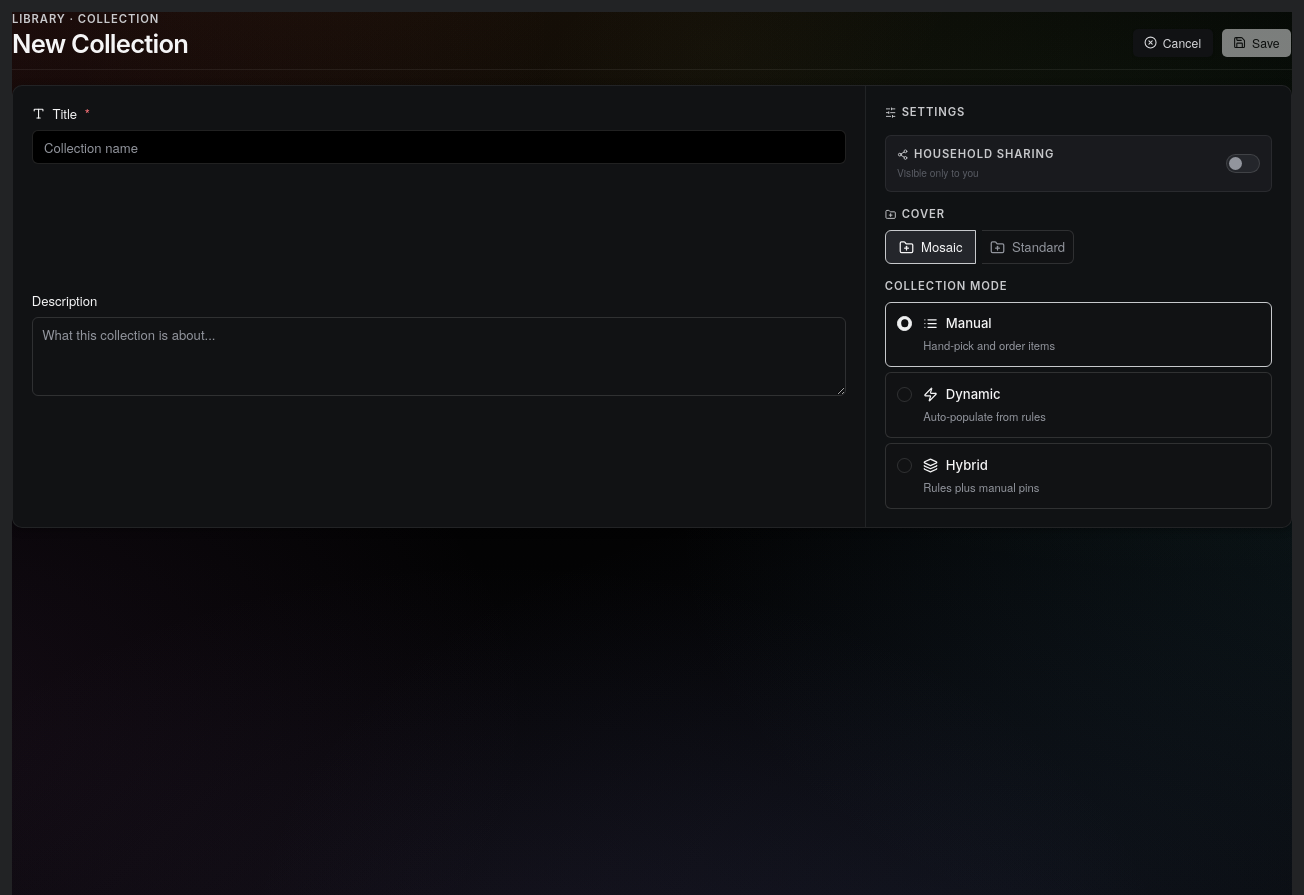
collection rule preview › clears obsolete matches during debounce and distinguishes loading from no results
The width and height of the screenshot is (1304, 895).
Step 1. Type "Draft" into the field labelled "Title *" → x=439, y=147, box [32,130,846,164]
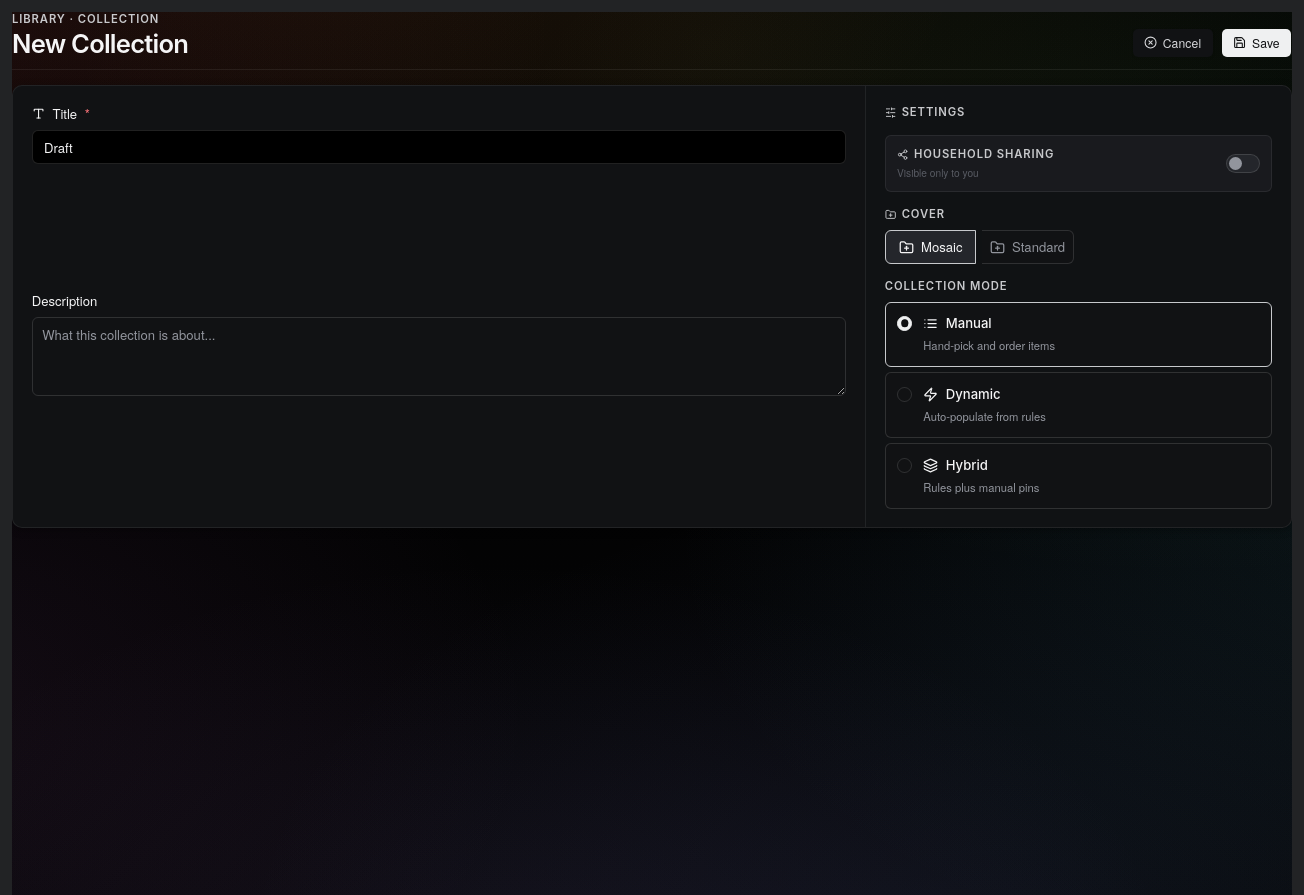
Step 2. Click the radio button named "Dynamic" → x=904, y=394, box [897,387,912,402]
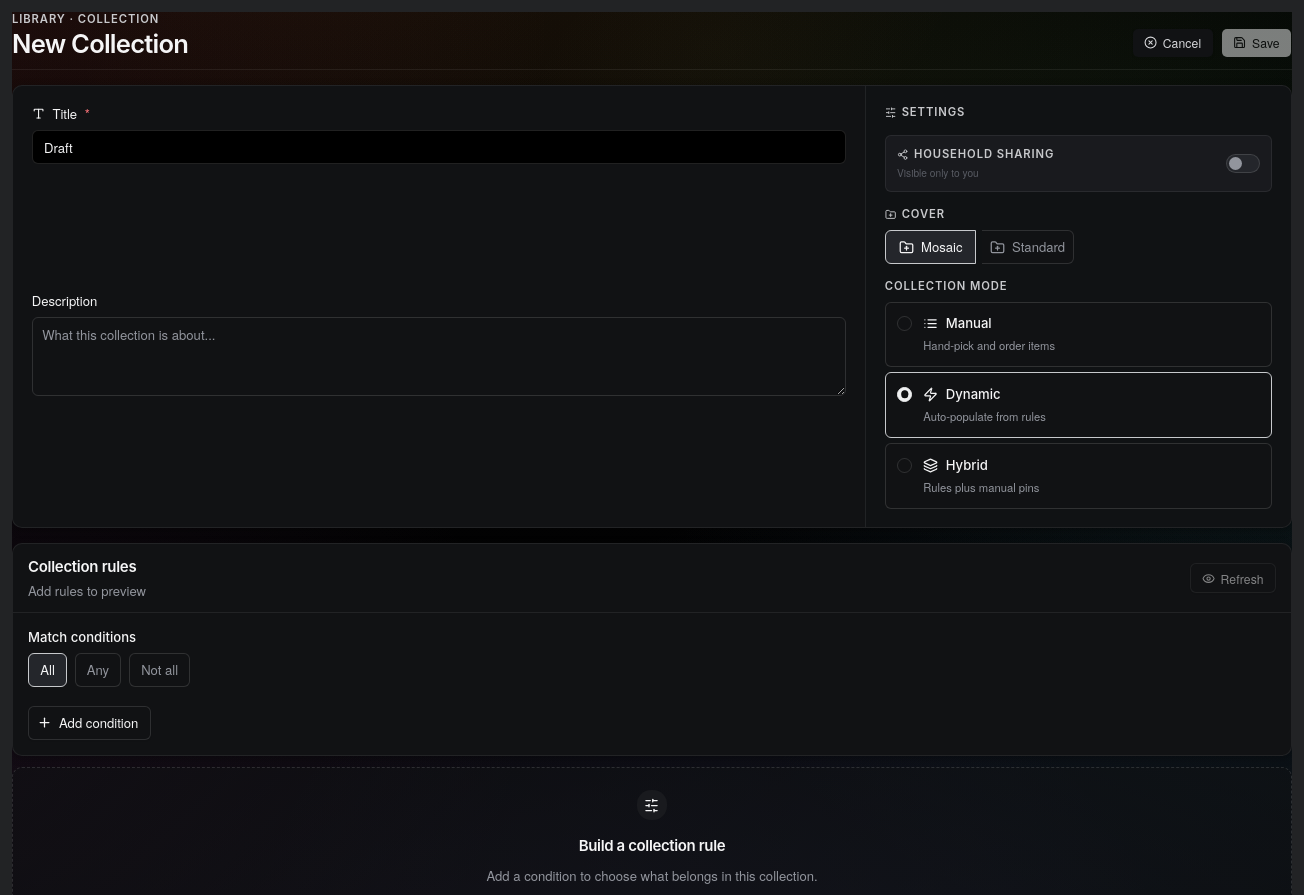
Step 3. Click the button "Add condition" → x=89, y=723, box [28,706,151,740]
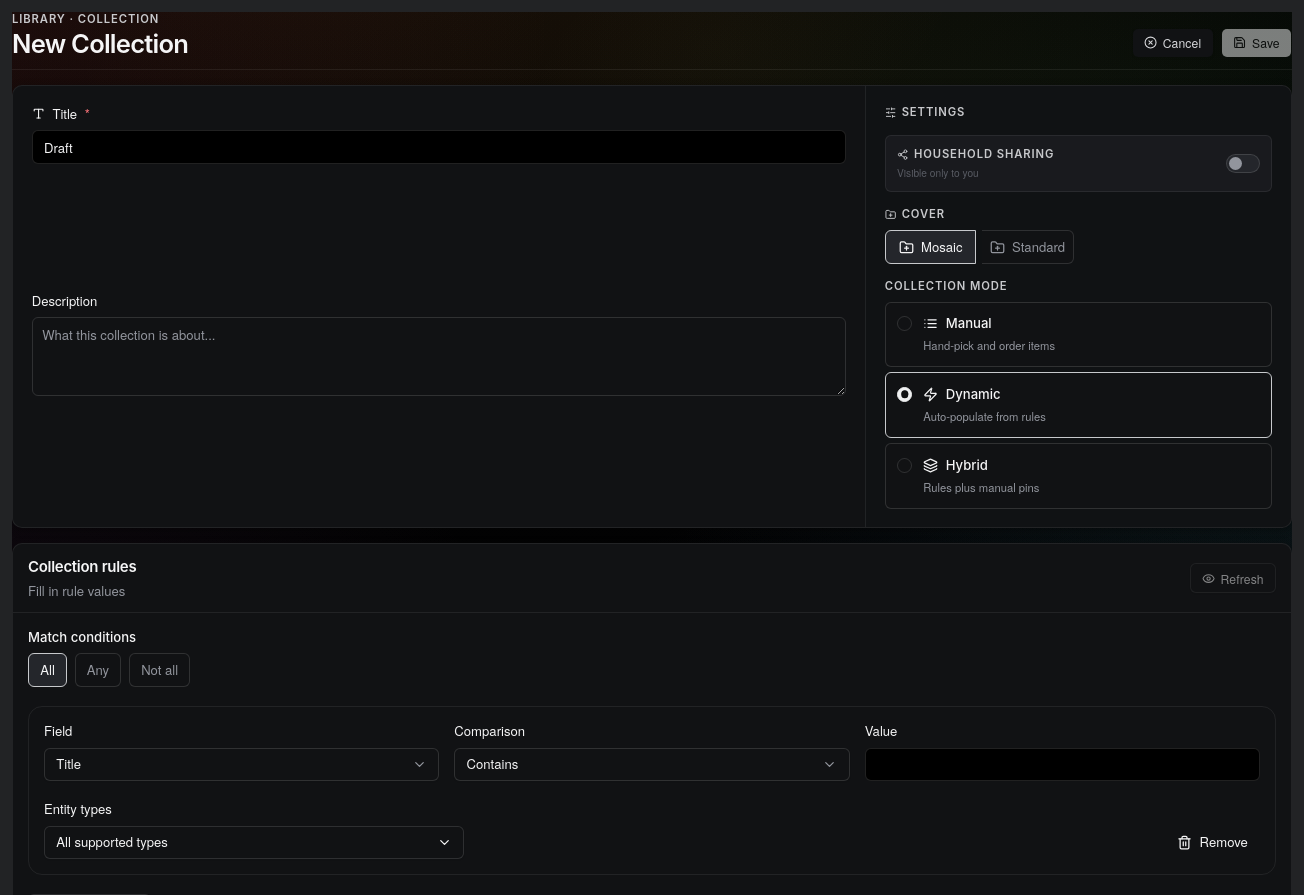
Step 4. Type "cats" into the field named "Text value" → x=1062, y=764, box [865,748,1260,781]
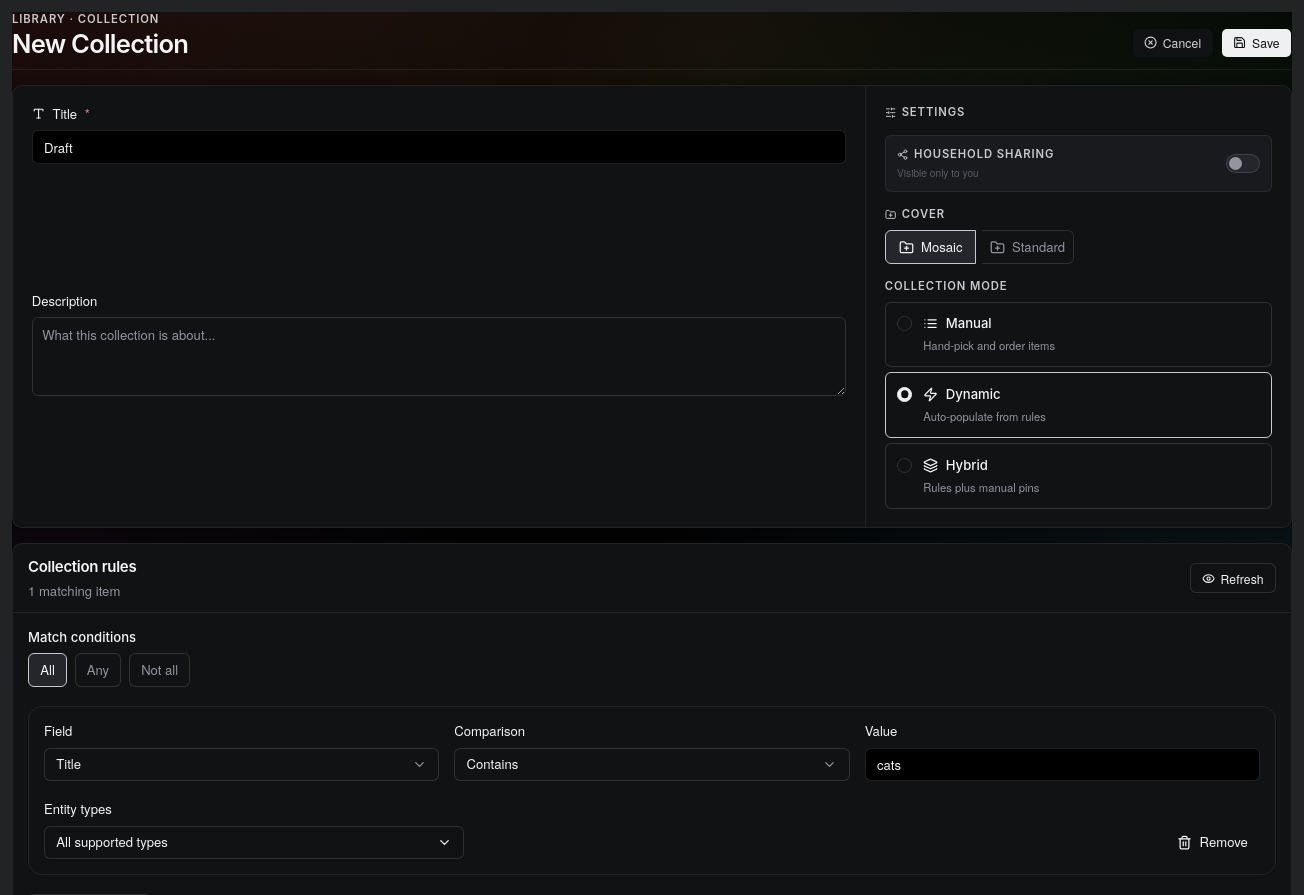
Step 5. Replace the text in the field named "Text value" with "dogs" → x=1062, y=764, box [865,748,1260,781]
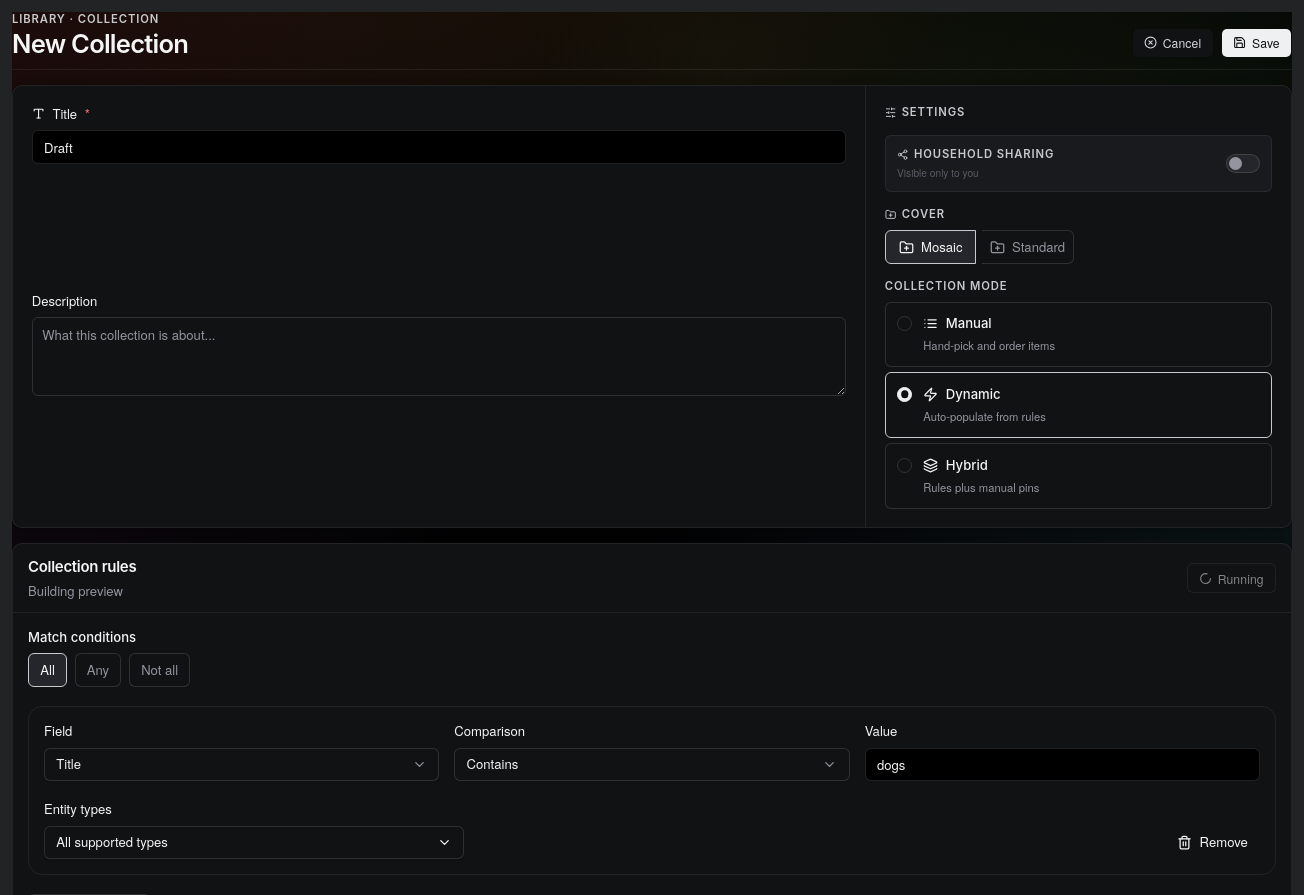
Check: the text "1 matching item" is gone
Check: the text "Building preview" is shown, box [28,582,136,601]
